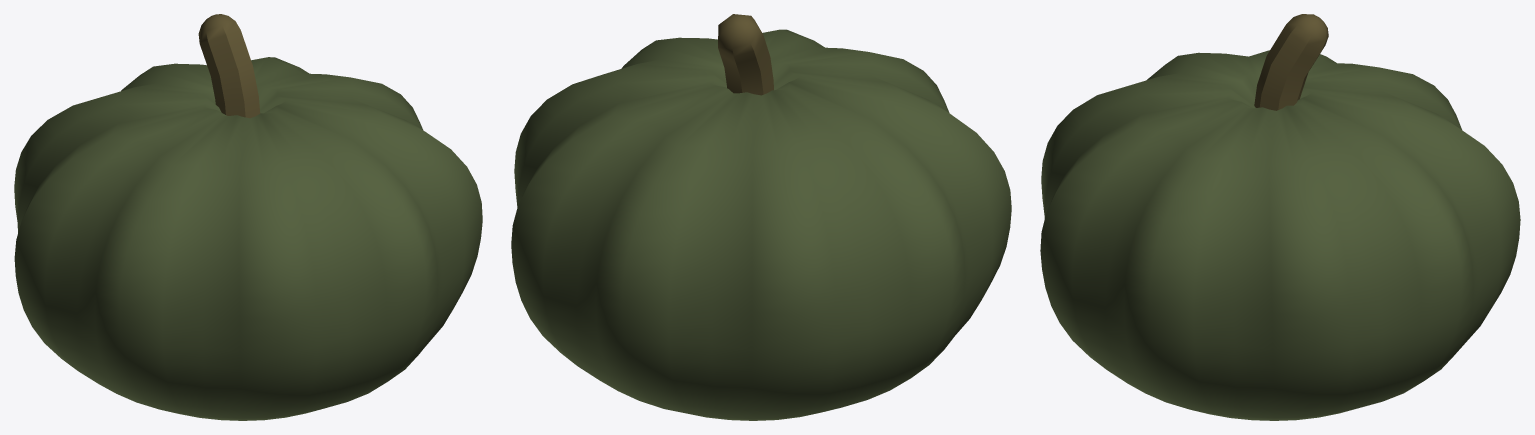
The model's file is pumpkin_green.glb.
3 views of the same model, side by side, from view 1: azimuth 30°, elevation 25°; view 2: azimuth 150°, elevation 25°; view 3: azimuth 270°, elevation 25° (orthographic). The views are drawn at different scales.
Parts seen in each view (by area): view 1: Sammel Glatt, Sammel Holz; view 2: Sammel Glatt, Sammel Holz; view 3: Sammel Glatt, Sammel Holz.
Part boxes in pixels (x1,y1,x2,y2): Sammel Glatt: (14, 57, 482, 420); Sammel Holz: (198, 14, 260, 118); Sammel Glatt: (511, 29, 1011, 420); Sammel Holz: (718, 14, 773, 95); Sammel Glatt: (1040, 50, 1520, 420); Sammel Holz: (1254, 14, 1328, 110).
Bounding box in the file's own units: 0.2398 × 0.1897 × 0.2365.
